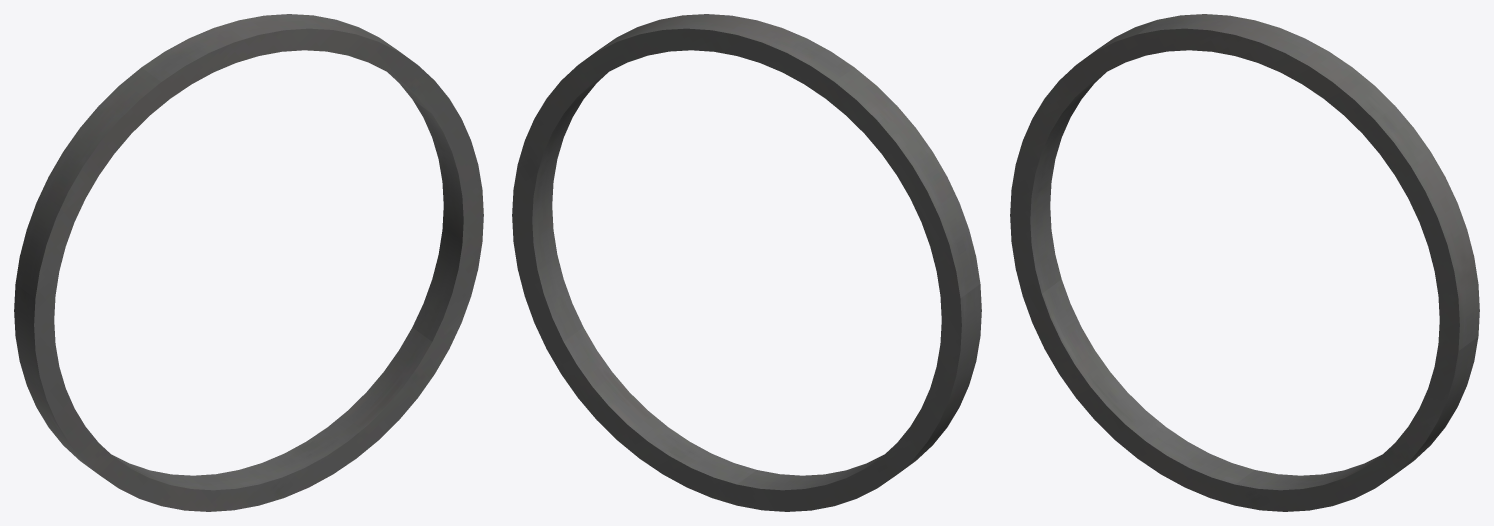
Rendered from fan_left__rim.glb.
3 views of the same model, side by side, from view 1: azimuth 30°, elevation 25°; view 2: azimuth 150°, elevation 25°; view 3: azimuth 330°, elevation 25° (orthographic).
Parts seen in each view (by area): view 1: world; view 2: world; view 3: world.
Boxes of the visible parts, box(x1,y1,x2,y2) form: world: box(14, 14, 483, 511); world: box(512, 14, 981, 511); world: box(1010, 14, 1479, 511).
Bounding box in the file's own units: 0.078 × 0.078 × 0.006.
1 material, 1 textured.
